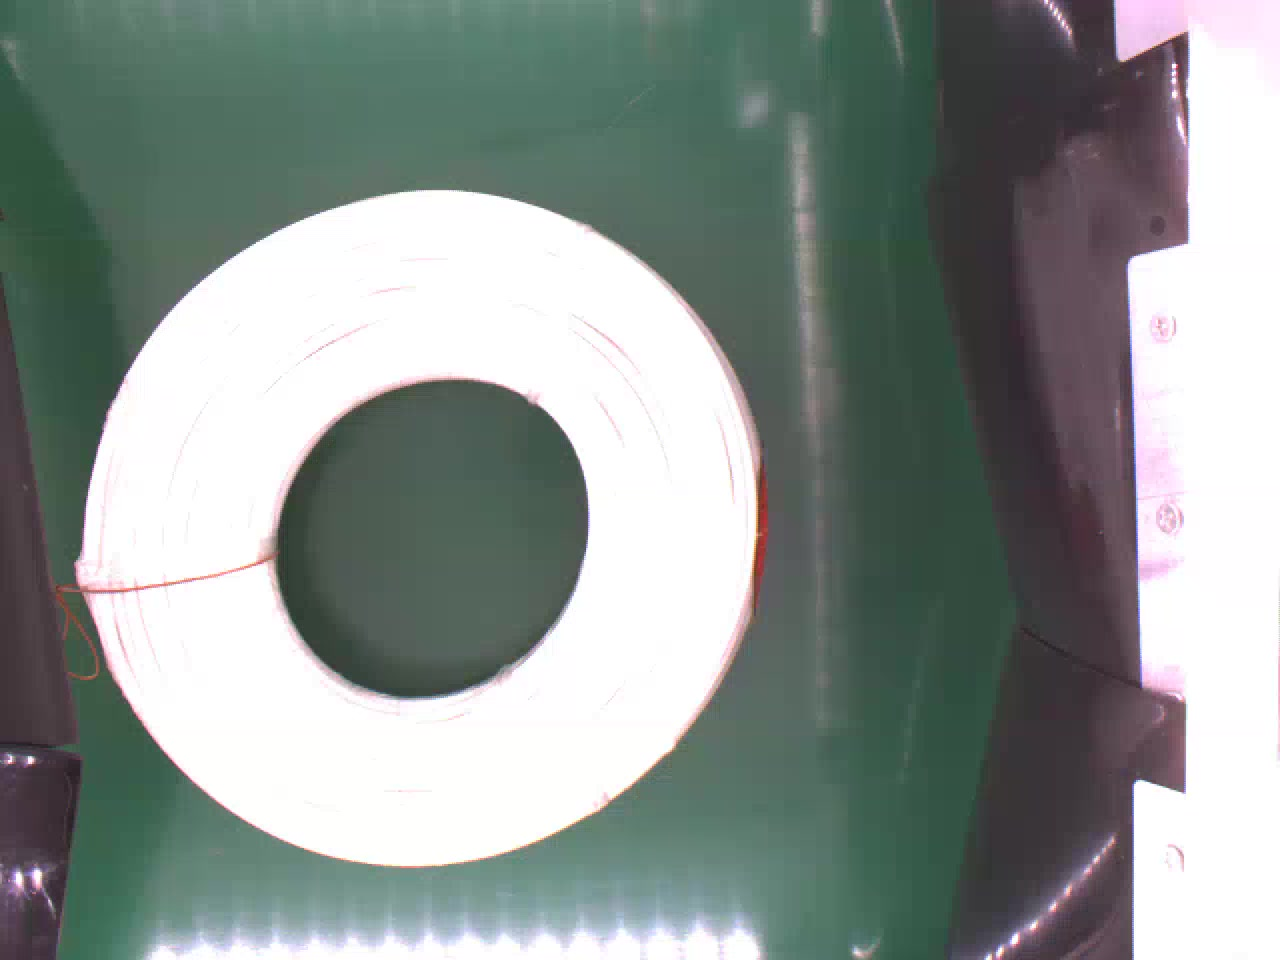white: (77, 181, 761, 865)
